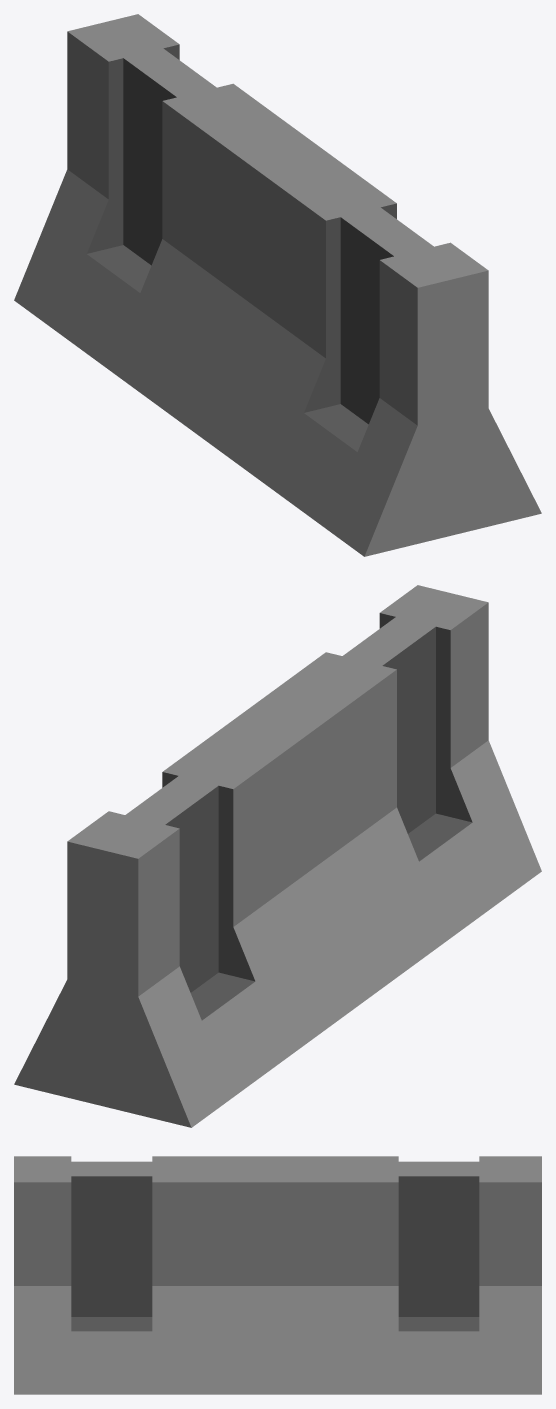
The model's file is muroConcreto.fbx.
3 views of the same model, one above another, from view 1: azimuth 30°, elevation 25°; view 2: azimuth 150°, elevation 25°; view 3: azimuth 270°, elevation 25° (orthographic). The views are drawn at different scales.
Parts seen in each view (by area): view 1: Road Closed-04; view 2: Road Closed-04; view 3: Road Closed-04.
Part boxes in pixels (<box>): Road Closed-04: <box>14,14,541,556</box>; Road Closed-04: <box>14,585,541,1127</box>; Road Closed-04: <box>14,1156,541,1394</box>.
Bounding box in the file's own units: 76.17 × 105 × 260.
1 material, 1 textured.
